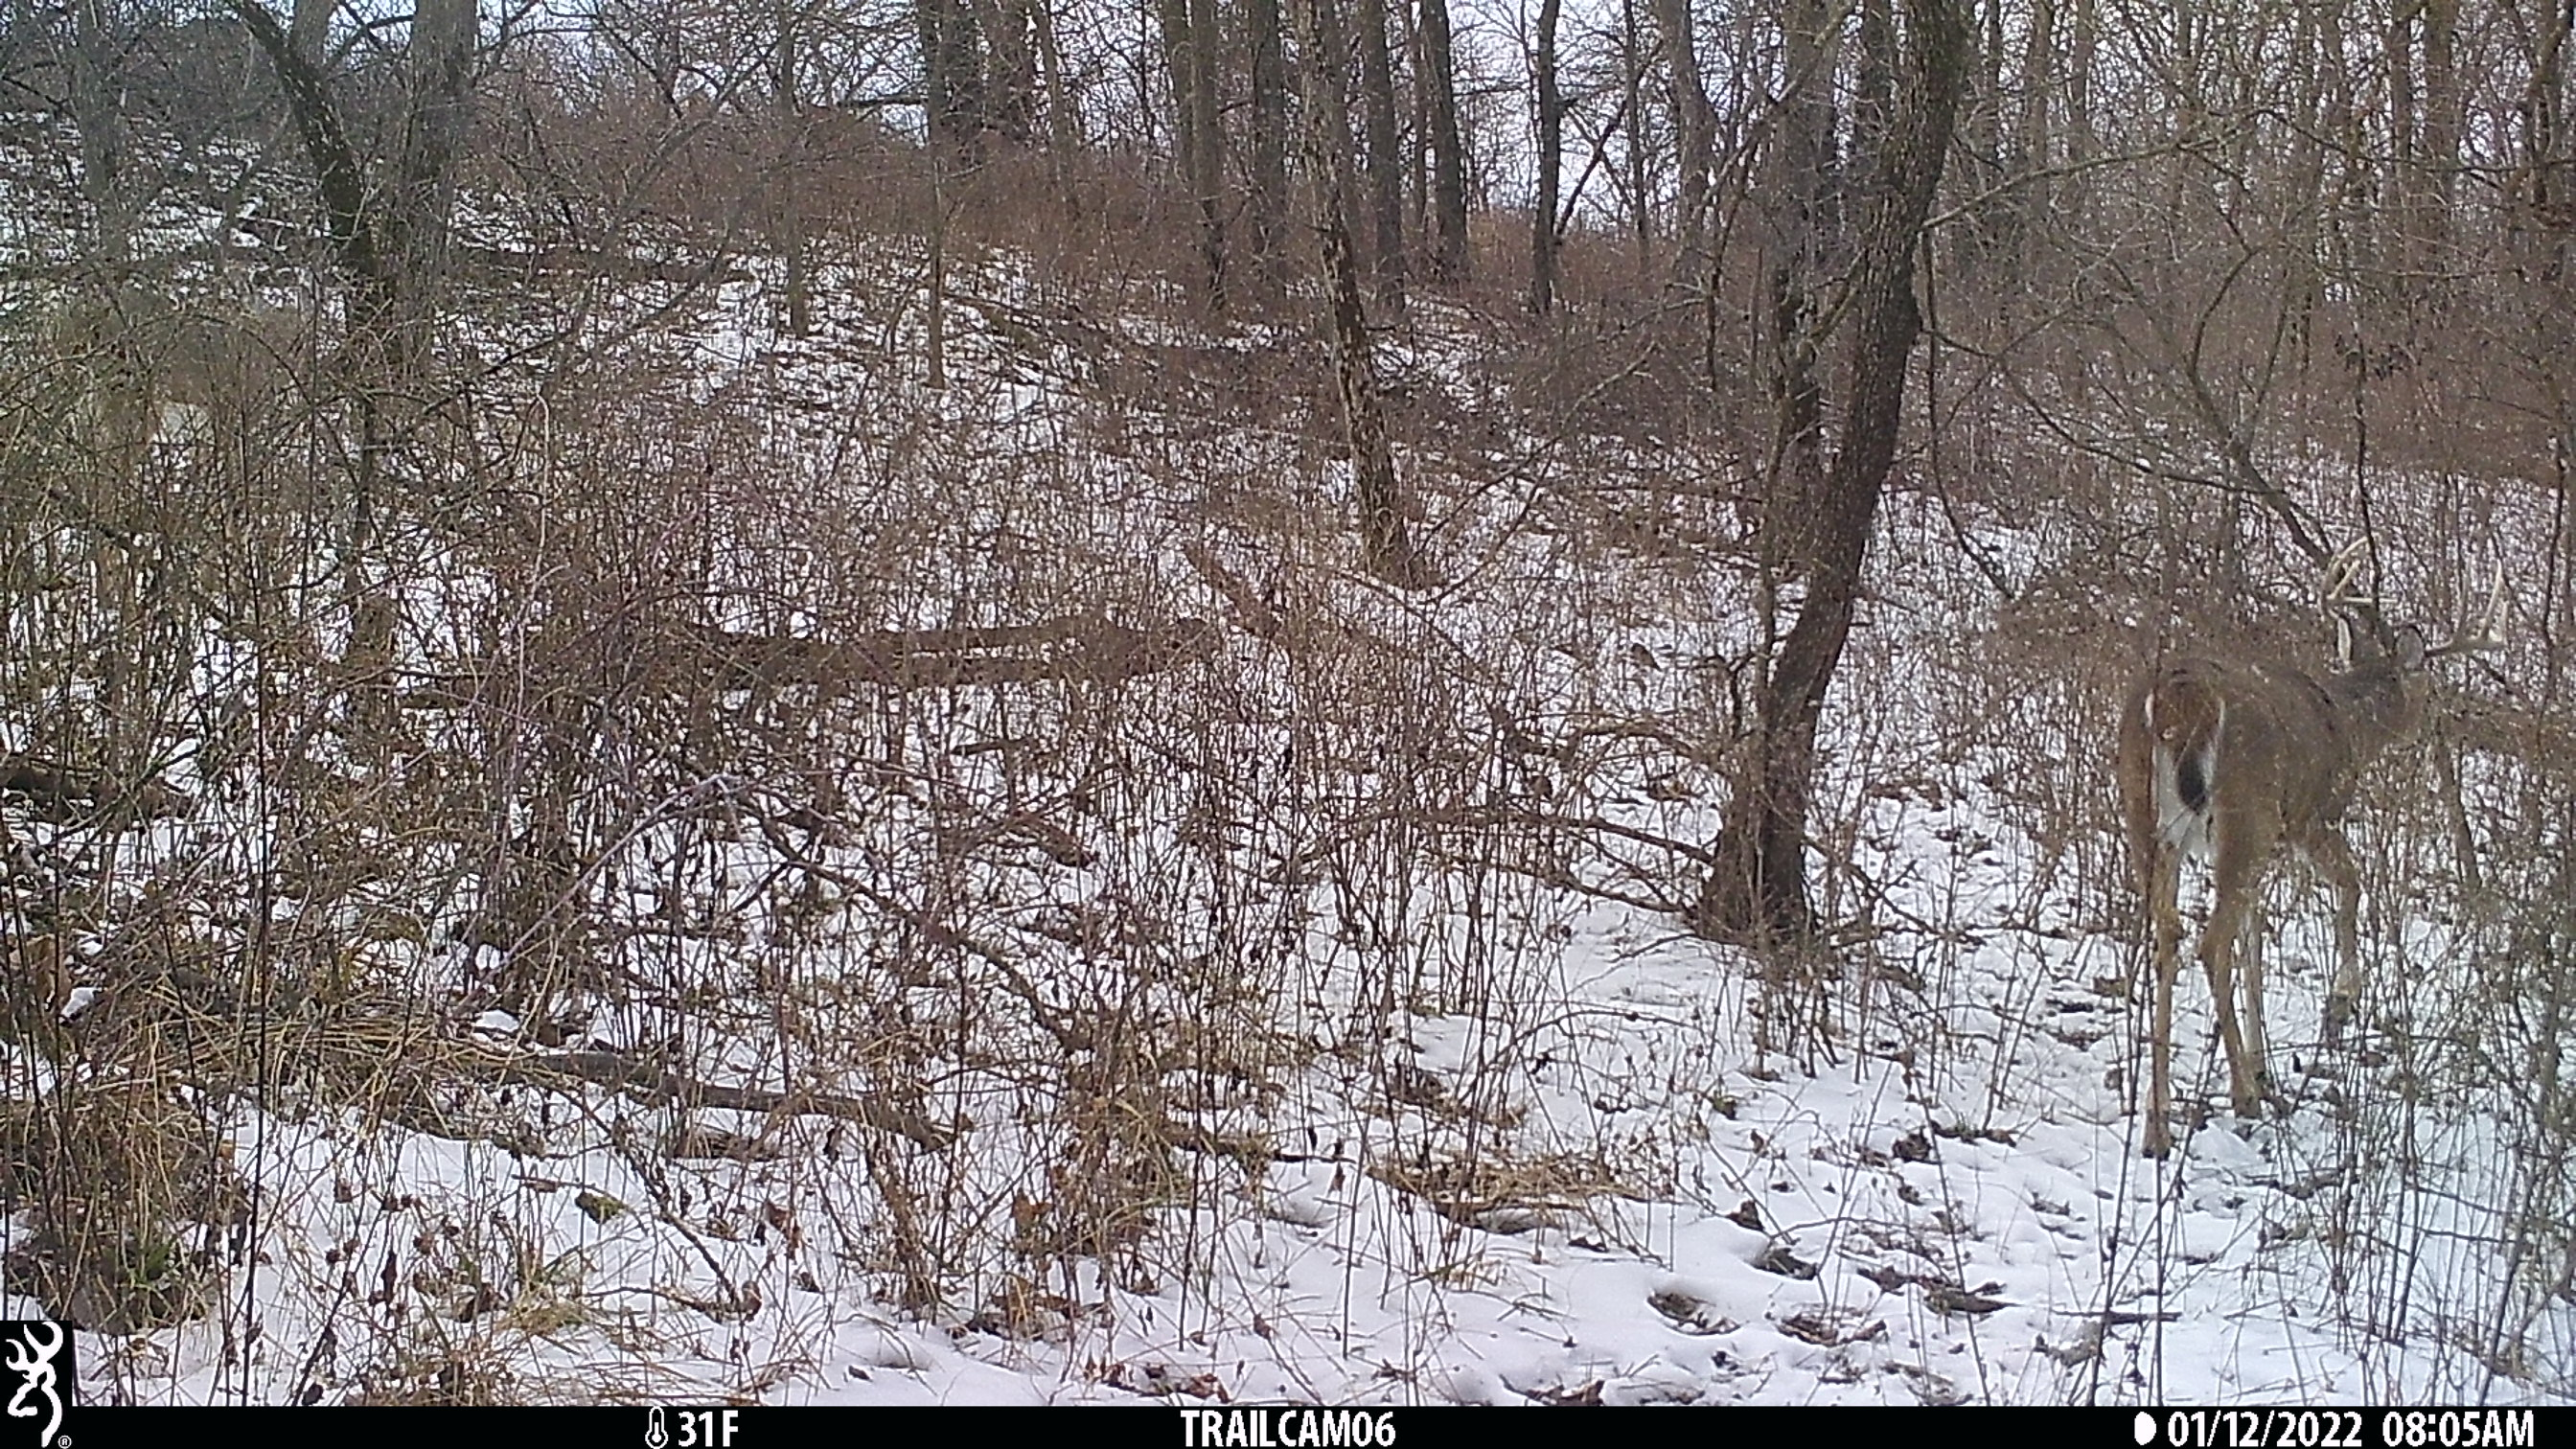DeerBuck: (2116, 531, 2506, 1154)
DeerBuckHead: (2318, 530, 2508, 751)
